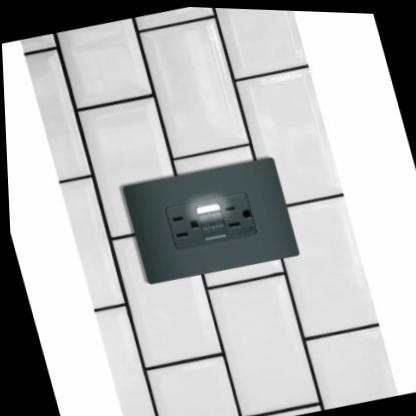OUTLET: (119, 150, 302, 289)
